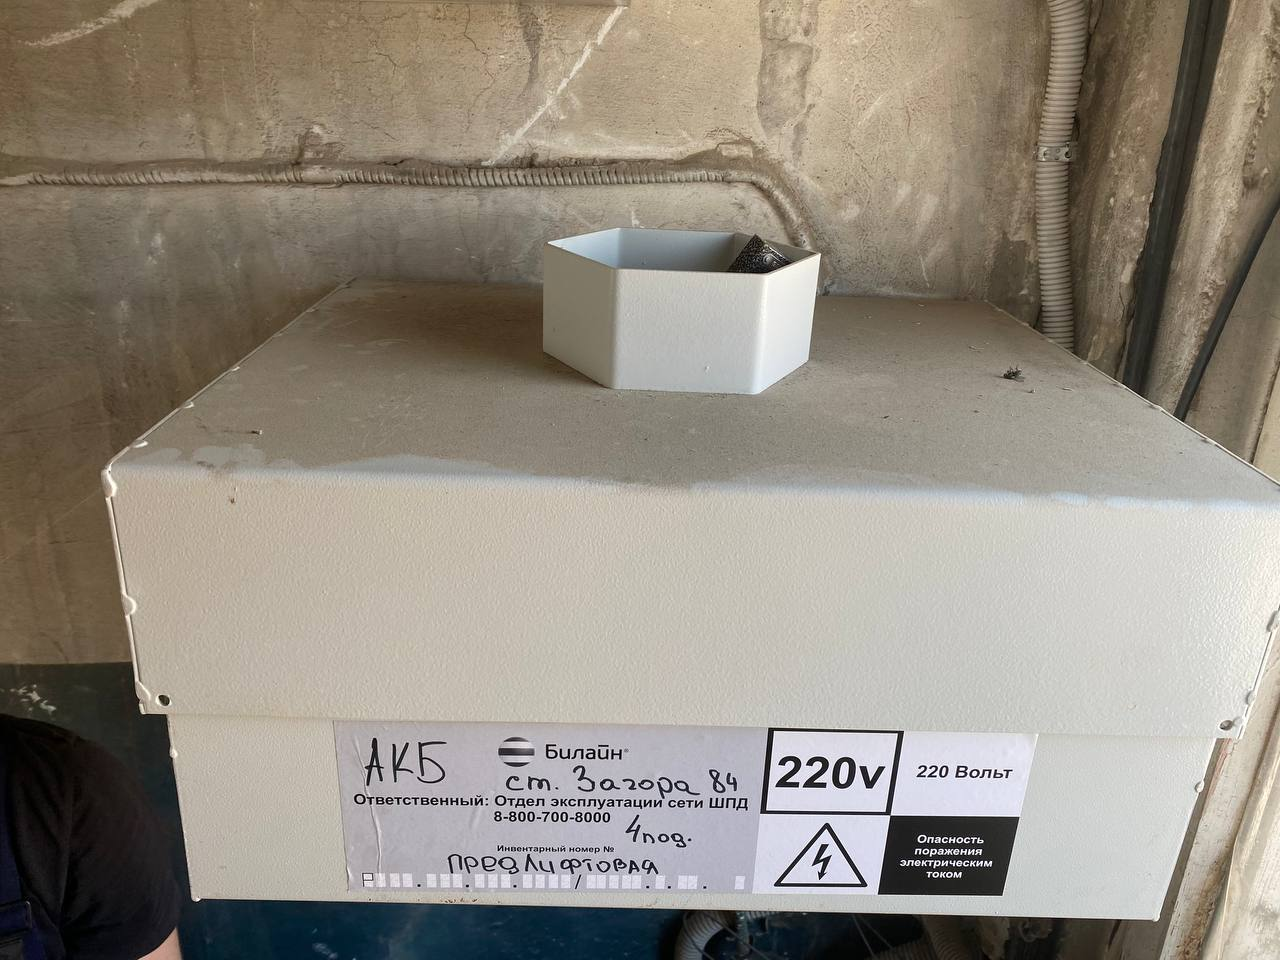shta-ps: (87, 214, 1276, 925)
